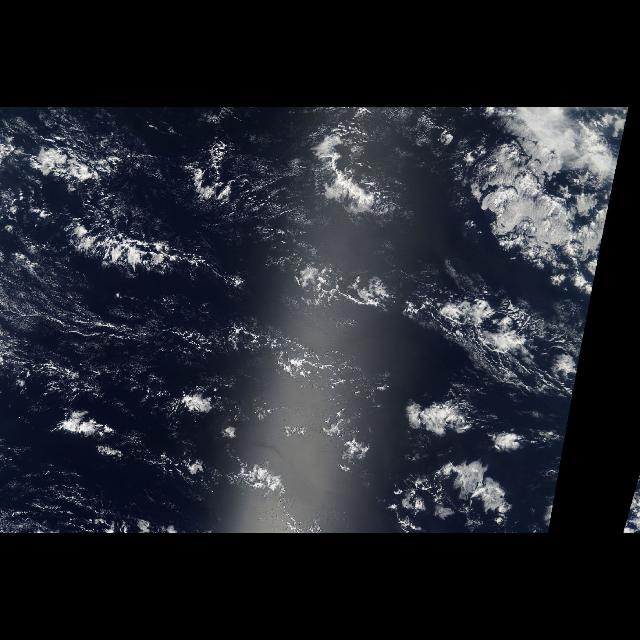Fish: (29, 136, 596, 400)
